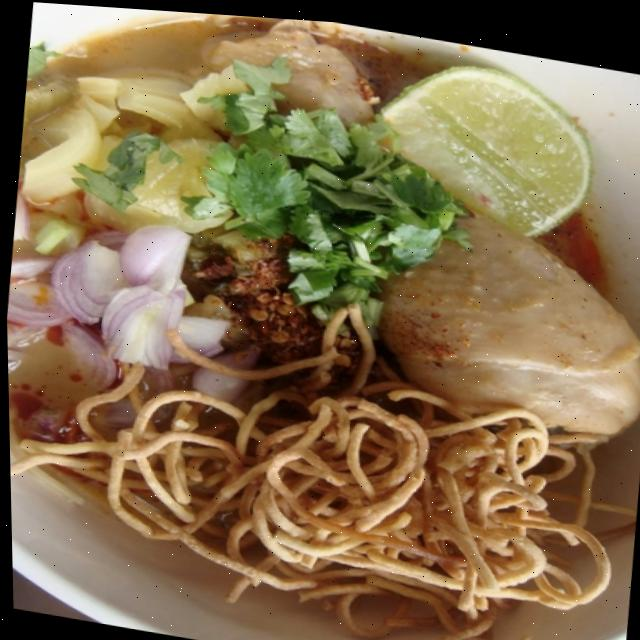面条主食: (15, 21, 640, 617)
